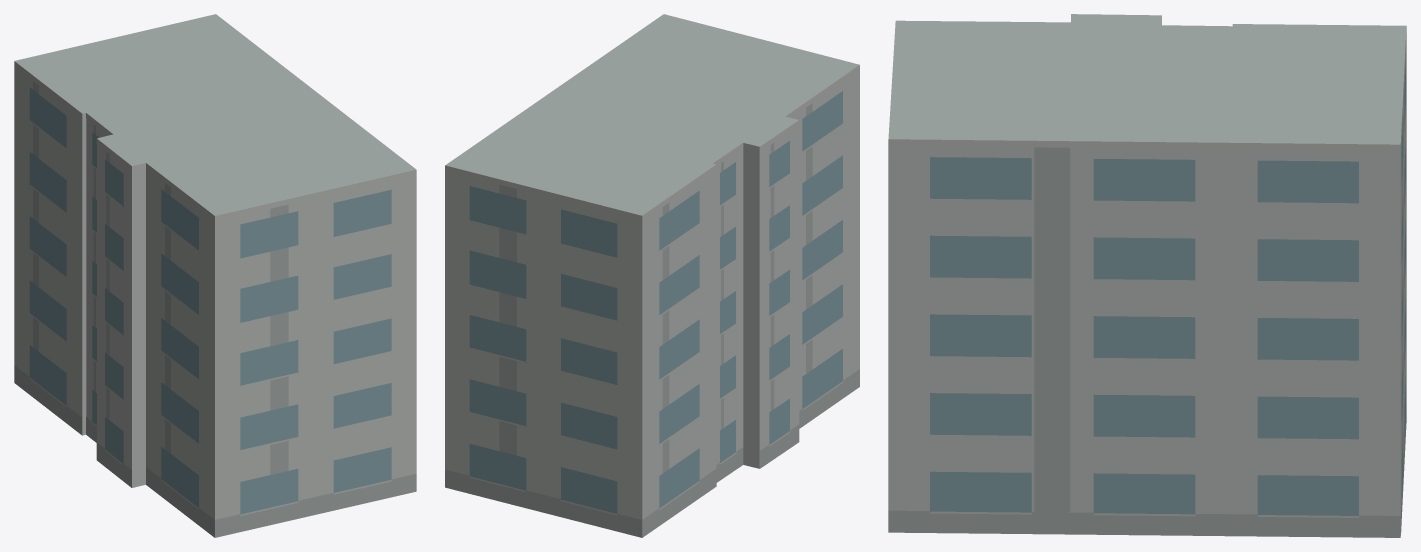
The model's file is survey-upis-32836122.glb.
3 renders of one model, left to right at view 1: azimuth 30°, elevation 25°; view 2: azimuth 150°, elevation 25°; view 3: azimuth 270°, elevation 25°, orthographic. The views are drawn at different scales.
Visible parts, largest first — view 1: survey-upis-32836122.tmp; view 2: survey-upis-32836122.tmp; view 3: survey-upis-32836122.tmp.
Part boxes in pixels (box(x1,y1,x2,y2)): survey-upis-32836122.tmp: box(14, 14, 416, 537); survey-upis-32836122.tmp: box(445, 14, 859, 537); survey-upis-32836122.tmp: box(888, 14, 1406, 537).
Size of the model in its own units: 10.37 by 14.55 by 17.38.
